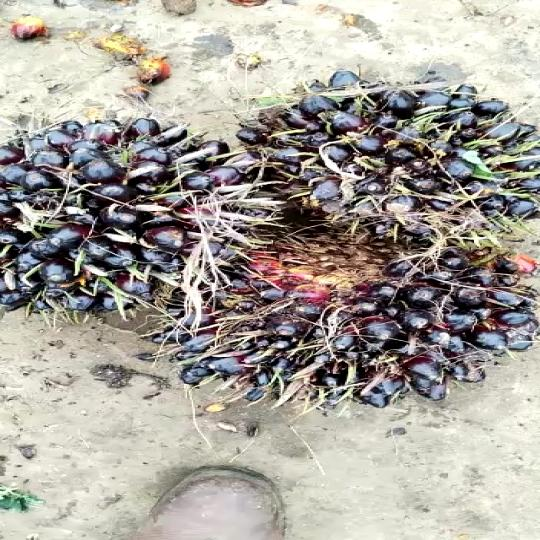mentah: (109, 219, 532, 397), (0, 104, 275, 316), (237, 63, 540, 235)
